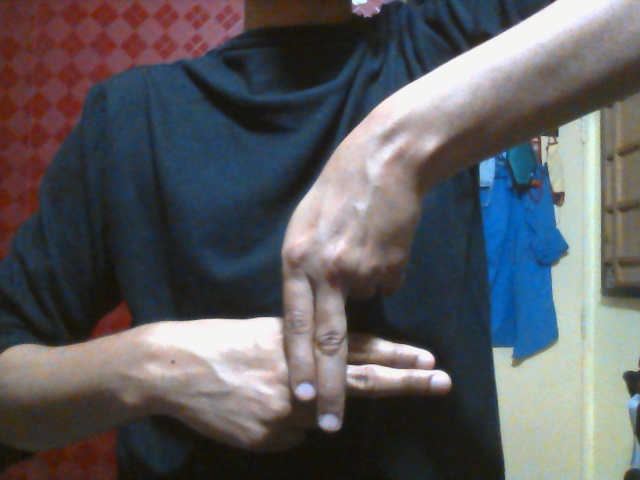F: (156, 153, 453, 455)
